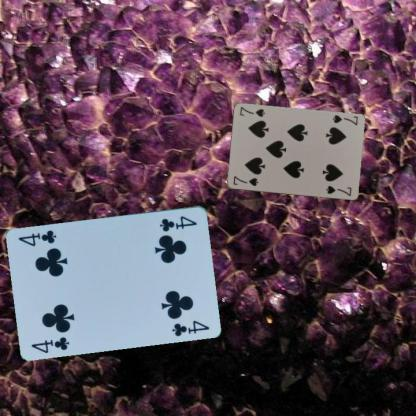4c: (157, 212, 199, 233), (29, 334, 71, 354)
7s: (230, 174, 260, 188), (330, 112, 359, 126)
